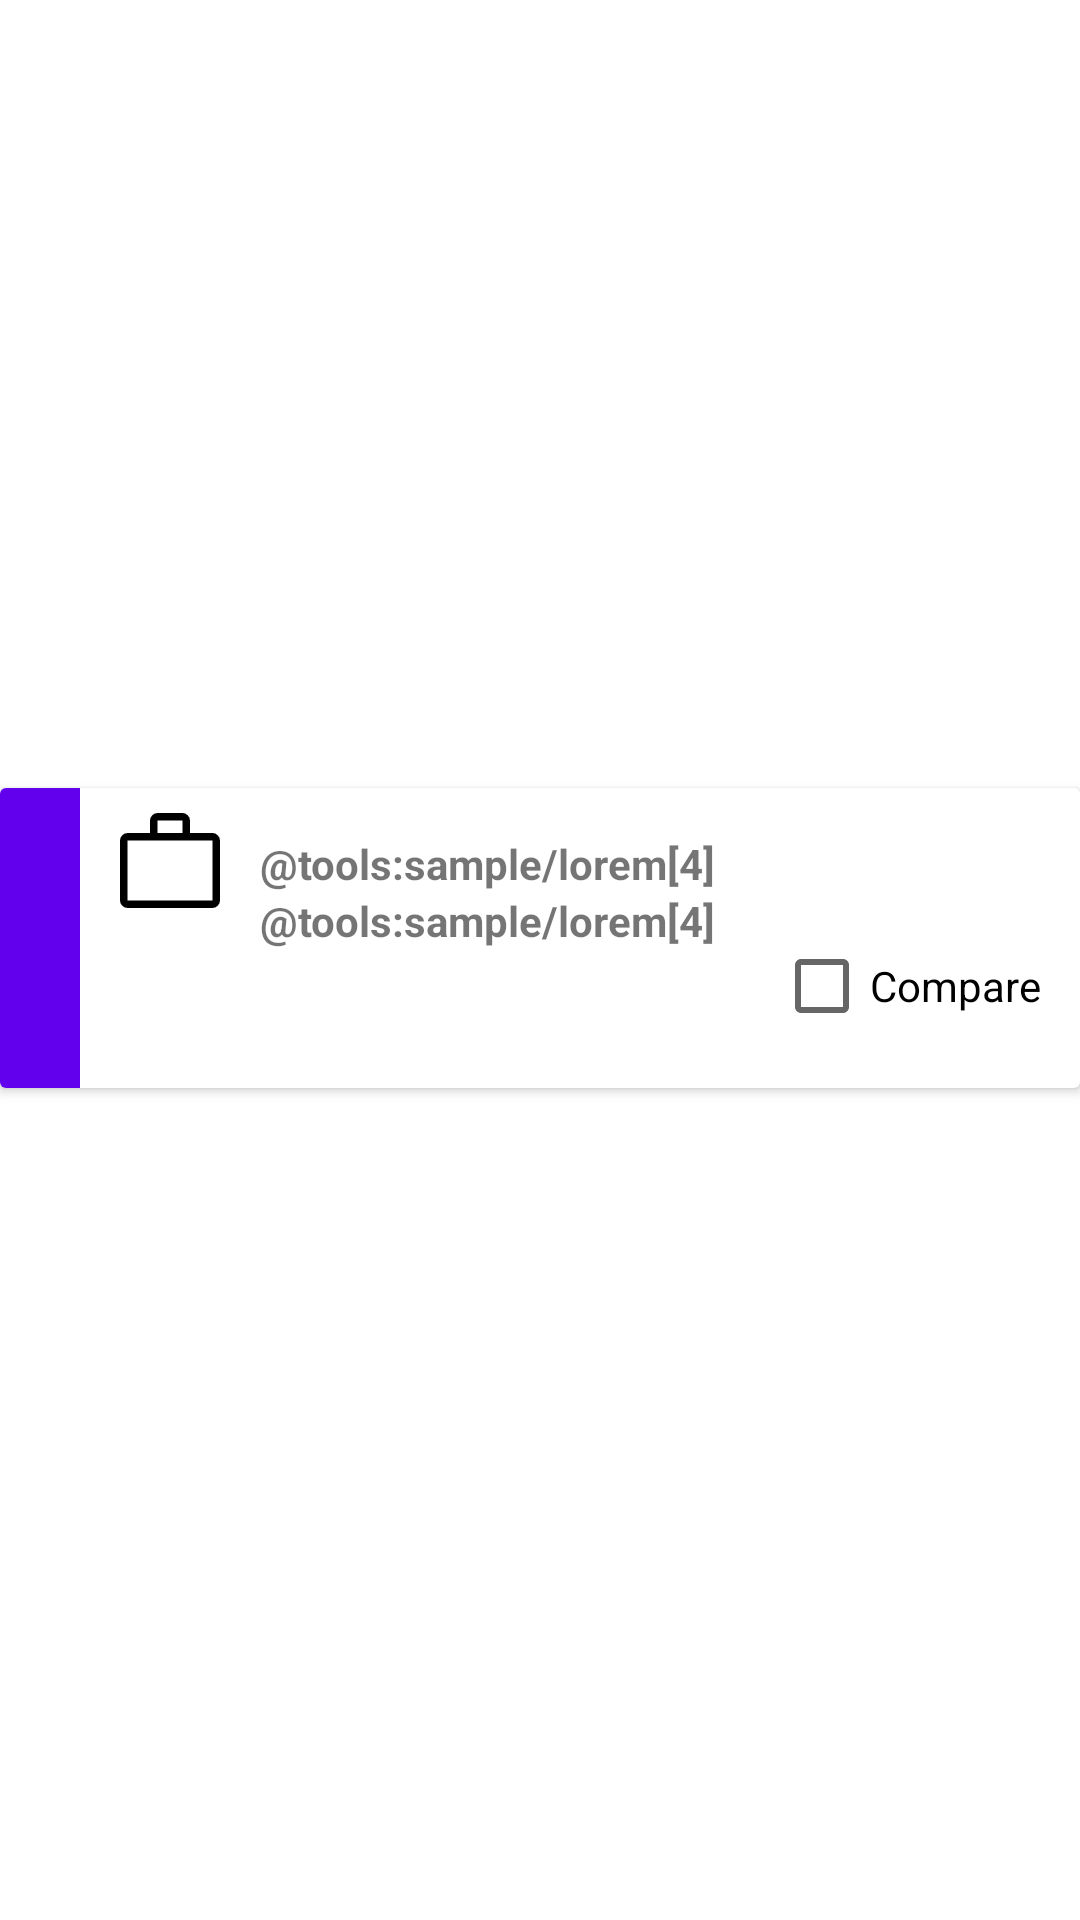

Point at icon controls on the screen. Image size 1080 × 1920, points as point (x, y).
job: point (170, 860)
